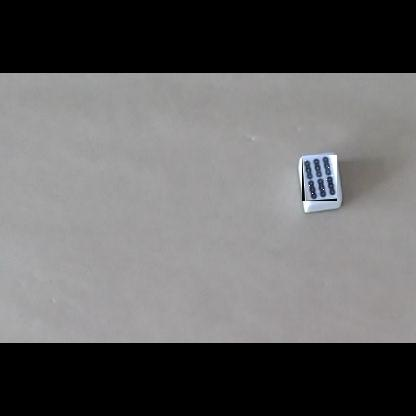6s: (302, 155, 337, 201)
